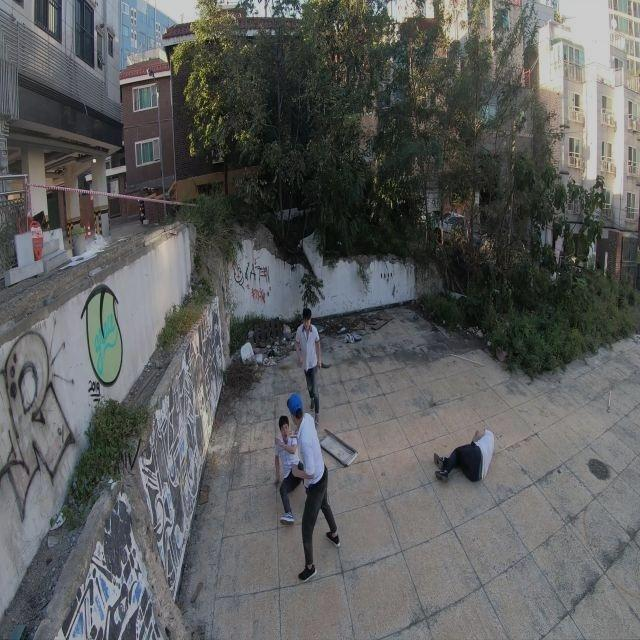fight: (273, 392, 341, 583)
non-fight: (294, 308, 322, 417)
